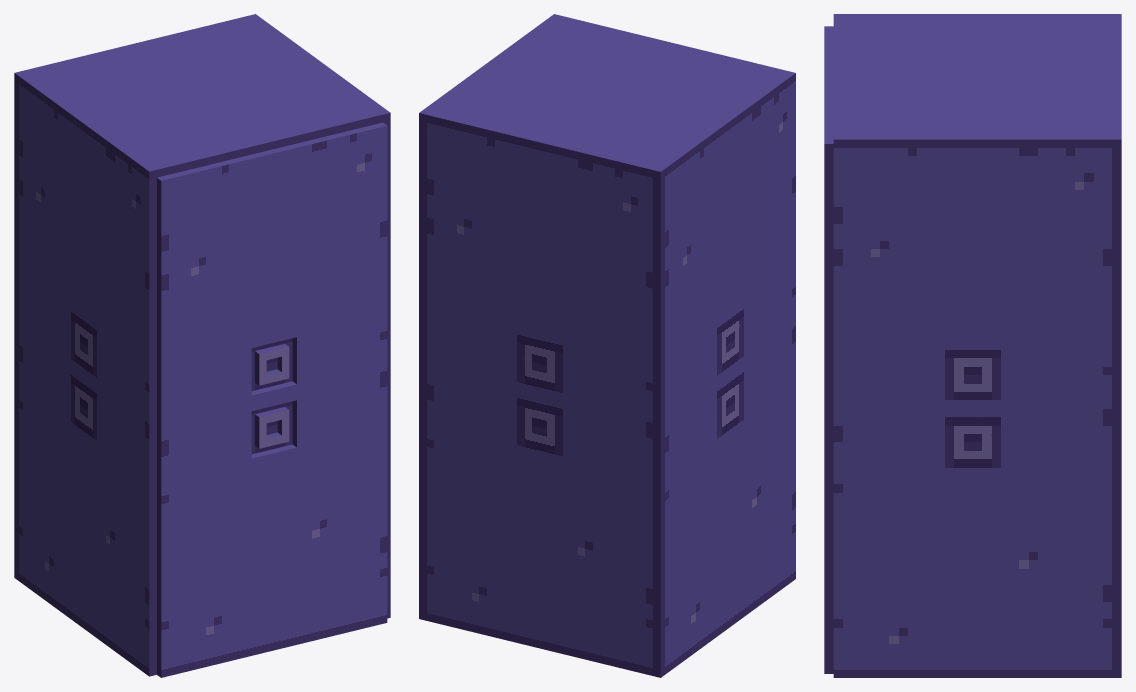
Rendered from 2_bit_doorao.fezao.glb.
3 views of the same model, side by side, from view 1: azimuth 30°, elevation 25°; view 2: azimuth 150°, elevation 25°; view 3: azimuth 270°, elevation 25° (orthographic). The views are drawn at different scales.
Parts seen in each view (by area): view 1: 2_BIT_DOORAO; view 2: 2_BIT_DOORAO; view 3: 2_BIT_DOORAO.
Part boxes in pixels (x1=…): 2_BIT_DOORAO: x1=14, y1=14, x2=390, y2=677; 2_BIT_DOORAO: x1=419, y1=14, x2=795, y2=677; 2_BIT_DOORAO: x1=824, y1=14, x2=1121, y2=677.
Bounding box in the file's own units: 2 × 4 × 2.
Materials: 1 (1 with a texture image).
